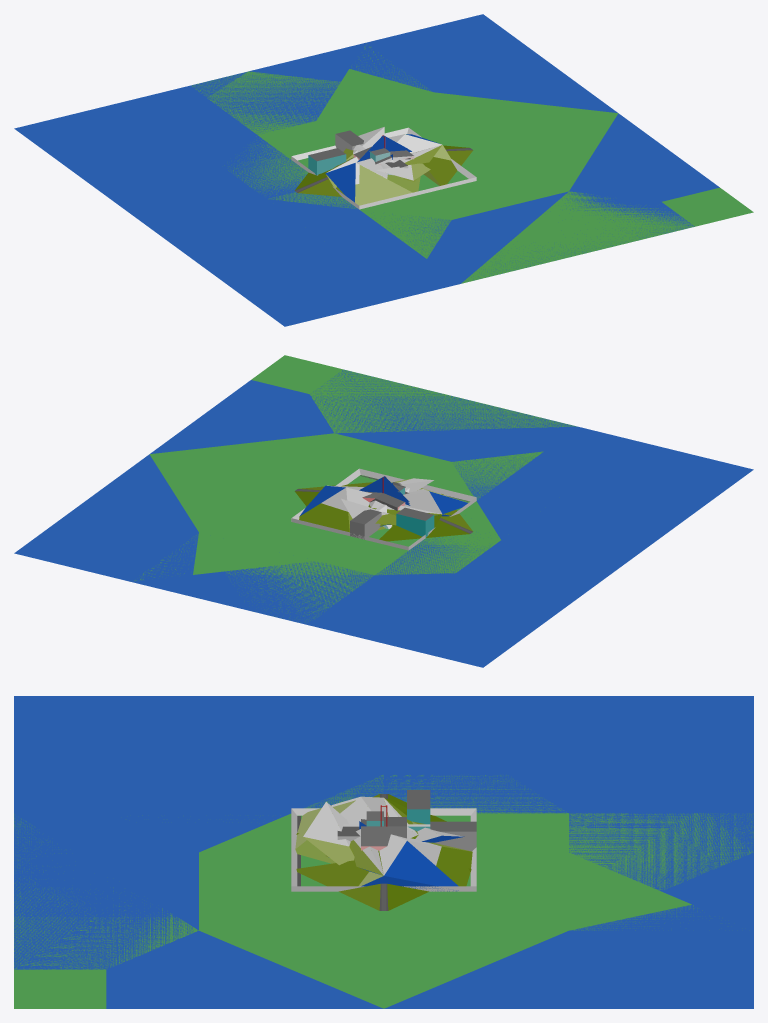
The picture shows the model from 3 angles, top to bottom: view 1: azimuth 30°, elevation 25°; view 2: azimuth 150°, elevation 25°; view 3: azimuth 270°, elevation 25°; orthographic projection. The views are drawn at different scales.
Parts seen in each view (by area): view 1: ce_059_lod0, ce_058_lod0, ce_001_lod0, ce_060_lod0, ce_002_lod0, ce_061_lod0, ce_003_lod0, ce_057_lod0, ce_070_lod0, ce_062_lod0_s1v0, ce_029_lod0, ce_087_lod0 (+1 smaller); view 2: ce_059_lod0, ce_058_lod0, ce_001_lod0, ce_060_lod0, ce_002_lod0, ce_061_lod0, ce_057_lod0, ce_090_lod0, ce_062_lod0_s1v0, ce_087_lod0, ce_029_lod0, ce_003_lod0; view 3: ce_059_lod0, ce_001_lod0, ce_058_lod0, ce_060_lod0, ce_002_lod0, ce_061_lod0, ce_057_lod0, ce_090_lod0, ce_070_lod0, ce_062_lod0_s1v0, ce_029_lod0, ce_003_lod0 (+4 smaller).
Part boxes in pixels (x1=…): ce_059_lod0: x1=17, y1=113, x2=719, y2=326; ce_058_lod0: x1=258, y1=44, x2=753, y2=283; ce_001_lod0: x1=14, y1=14, x2=583, y2=227; ce_060_lod0: x1=183, y1=88, x2=617, y2=298; ce_002_lod0: x1=191, y1=57, x2=584, y2=134; ce_061_lod0: x1=192, y1=71, x2=356, y2=208; ce_003_lod0: x1=318, y1=158, x2=420, y2=205; ce_057_lod0: x1=17, y1=71, x2=247, y2=157; ce_070_lod0: x1=361, y1=135, x2=473, y2=185; ce_062_lod0_s1v0: x1=308, y1=130, x2=390, y2=175; ce_029_lod0: x1=291, y1=127, x2=476, y2=209; ce_087_lod0: x1=294, y1=135, x2=407, y2=196; ce_059_lod0: x1=150, y1=369, x2=753, y2=666; ce_058_lod0: x1=134, y1=355, x2=576, y2=580; ce_001_lod0: x1=14, y1=479, x2=617, y2=667; ce_060_lod0: x1=116, y1=441, x2=685, y2=574; ce_002_lod0: x1=116, y1=479, x2=374, y2=624; ce_061_lod0: x1=225, y1=501, x2=500, y2=622; ce_057_lod0: x1=267, y1=603, x2=558, y2=666; ce_090_lod0: x1=299, y1=485, x2=392, y2=532; ce_062_lod0_s1v0: x1=350, y1=485, x2=434, y2=539; ce_087_lod0: x1=359, y1=477, x2=473, y2=541; ce_029_lod0: x1=291, y1=468, x2=476, y2=550; ce_003_lod0: x1=392, y1=488, x2=467, y2=527; ce_059_lod0: x1=14, y1=696, x2=748, y2=1008; ce_001_lod0: x1=384, y1=696, x2=753, y2=1008; ce_058_lod0: x1=14, y1=813, x2=702, y2=1008; ce_060_lod0: x1=14, y1=696, x2=563, y2=1008; ce_002_lod0: x1=446, y1=813, x2=753, y2=1008; ce_061_lod0: x1=304, y1=775, x2=753, y2=890; ce_057_lod0: x1=478, y1=696, x2=753, y2=850; ce_090_lod0: x1=358, y1=834, x2=472, y2=891; ce_070_lod0: x1=296, y1=805, x2=471, y2=910; ce_062_lod0_s1v0: x1=366, y1=790, x2=476, y2=851; ce_029_lod0: x1=291, y1=808, x2=476, y2=891; ce_003_lod0: x1=295, y1=796, x2=406, y2=863.
Size of what is drawn, in the model's own units: 4096 by 288 by 4096.
